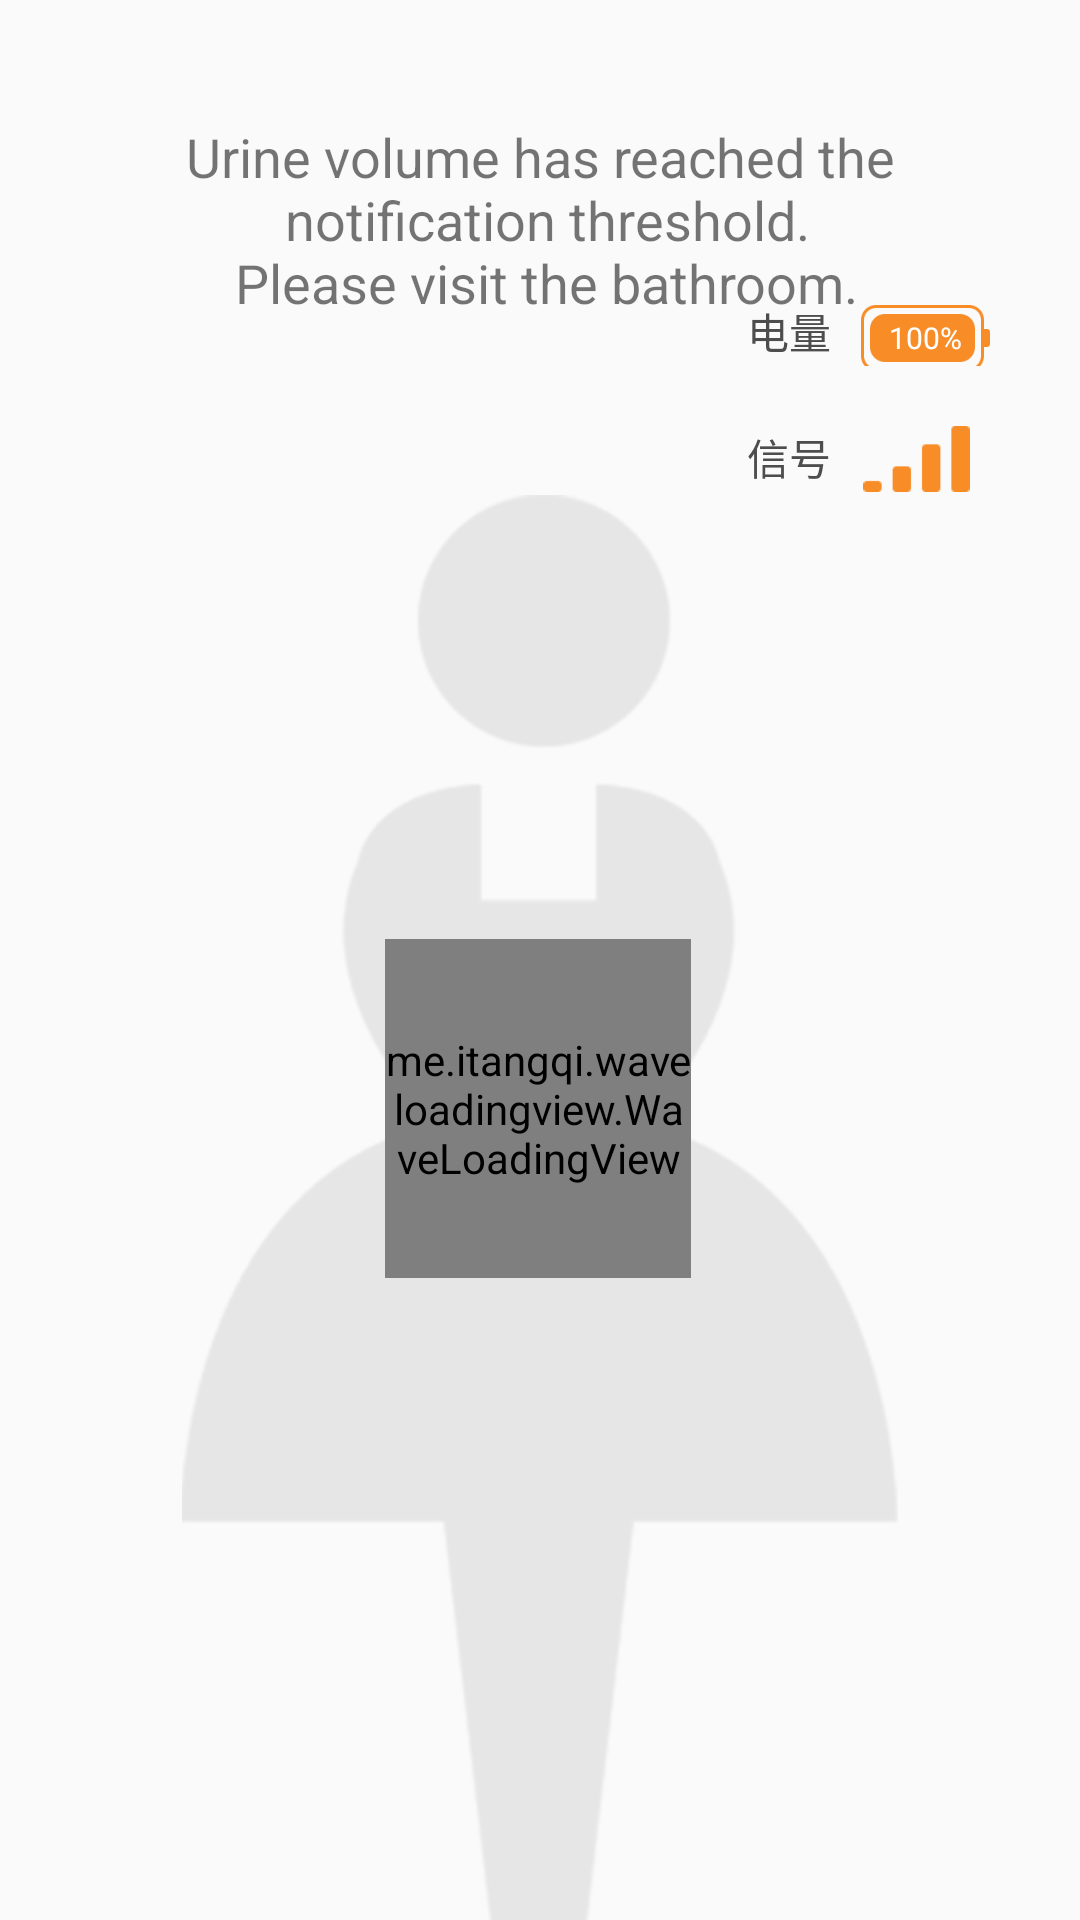

Screen size 1080×1920. Icon name, then its box in pixels as (x1, y1, x2, y2):
signal: (863, 426, 970, 492)
